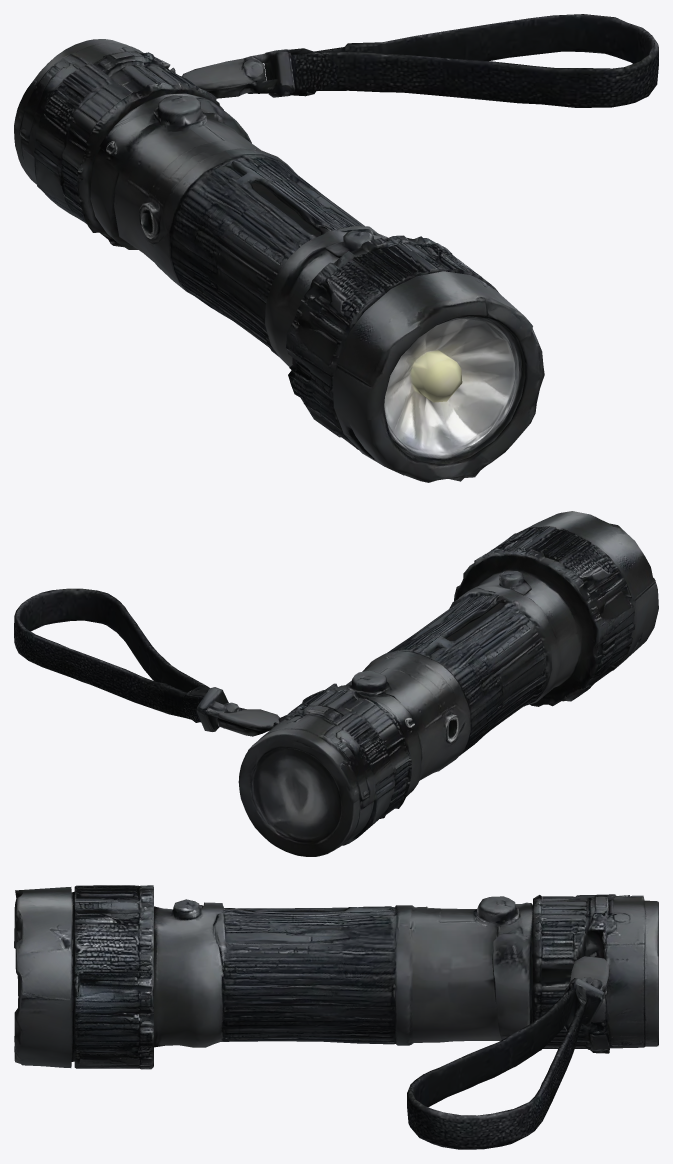
File: kit-lanterna.glb
The picture shows the model from 3 angles, top to bottom: view 1: azimuth 30°, elevation 25°; view 2: azimuth 150°, elevation 25°; view 3: azimuth 270°, elevation 25°; orthographic projection. The views are drawn at different scales.
Parts seen in each view (by area): view 1: tripo_node_3efc715a-9bcb-4d08-b82d-04c638944d18; view 2: tripo_node_3efc715a-9bcb-4d08-b82d-04c638944d18; view 3: tripo_node_3efc715a-9bcb-4d08-b82d-04c638944d18.
Boxes of the visible parts, x1,y1,x2,y2 form: tripo_node_3efc715a-9bcb-4d08-b82d-04c638944d18: (14,14,658,482); tripo_node_3efc715a-9bcb-4d08-b82d-04c638944d18: (14,511,658,856); tripo_node_3efc715a-9bcb-4d08-b82d-04c638944d18: (14,885,658,1149).
Bounding box in the file's own units: 0.8319 × 0.279 × 0.9799.
Materials: 1 (1 with a texture image).
